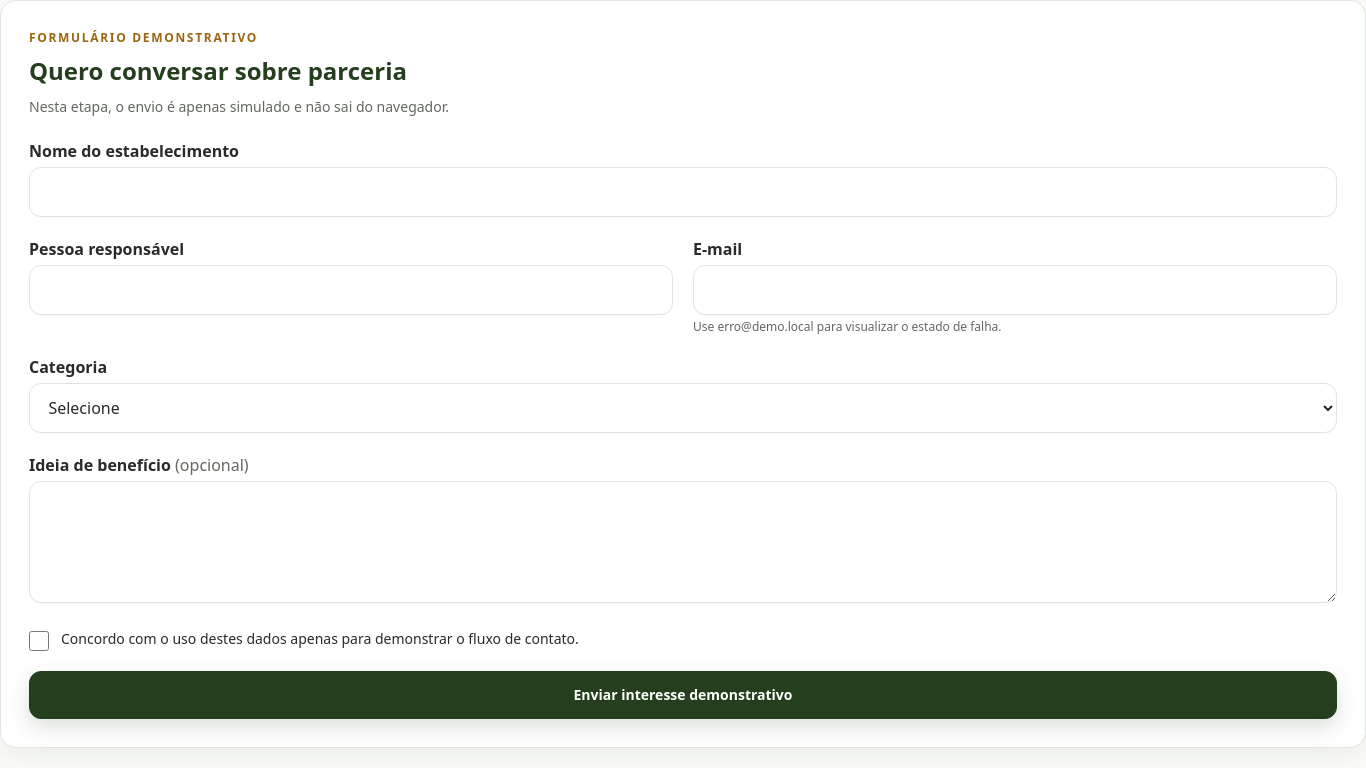
it: PartnerInterestForm › shows validation errors without submitting empty data
Click the button "Enviar interesse demonstrativo".
click(683, 695)  # box [29, 671, 1337, 719]
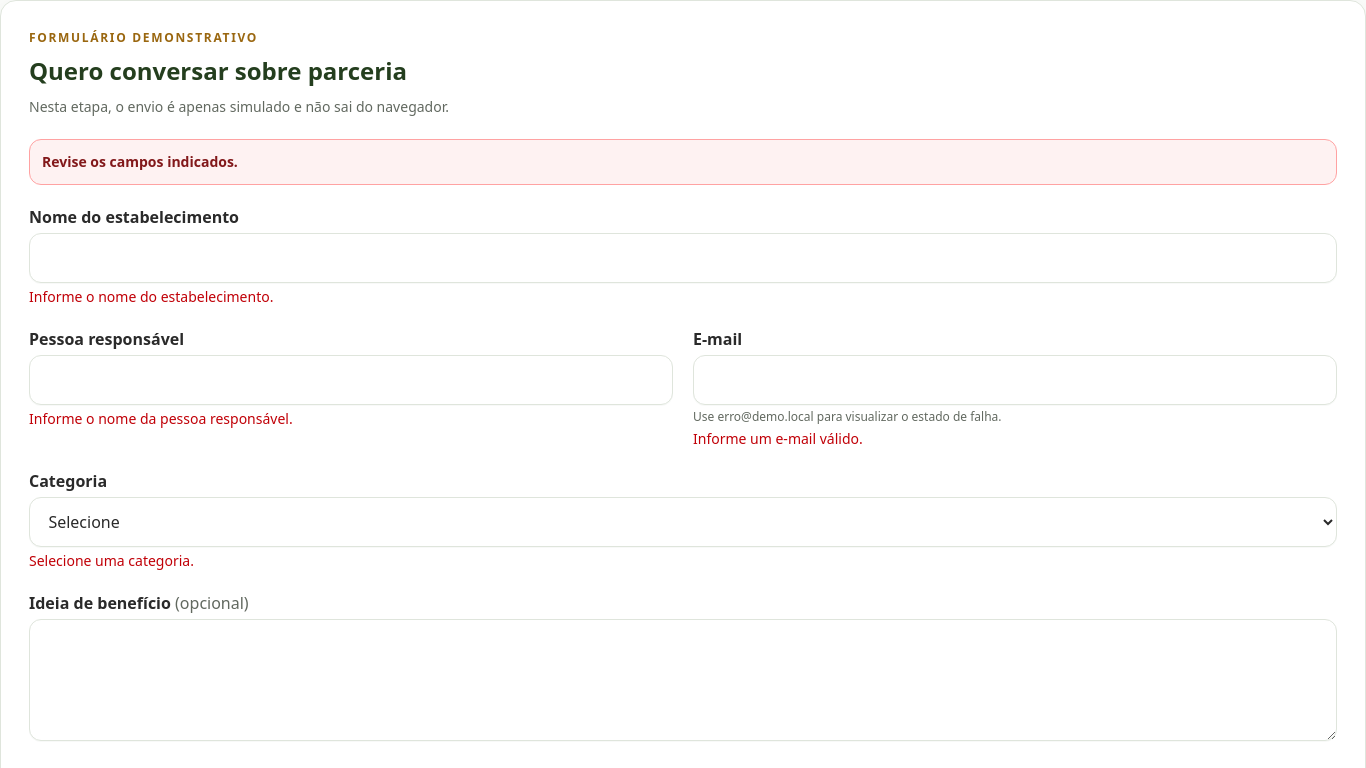
Result: the message shows "Revise os campos" at [42, 152, 238, 171]
Result: the text "Informe o nome do estabelecimento." is shown at [29, 287, 274, 306]
